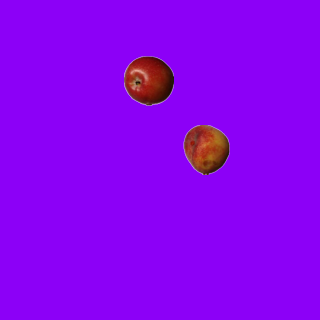Apple Braeburn: (123, 55, 173, 105)
Peach: (181, 124, 231, 174)
